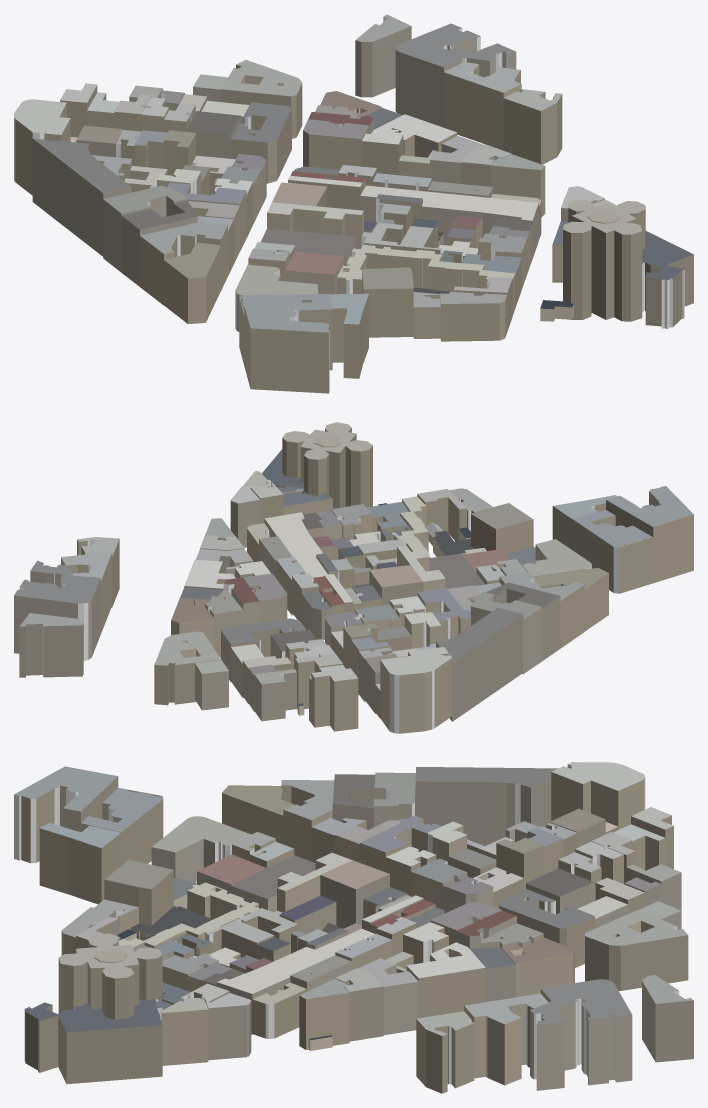
The picture shows the model from 3 angles, top to bottom: view 1: azimuth 30°, elevation 25°; view 2: azimuth 150°, elevation 25°; view 3: azimuth 270°, elevation 25°; orthographic projection. The views are drawn at different scales.
Visible parts, largest first — view 1: tuile; view 2: tuile; view 3: tuile.
Part boxes in pixels (bbox=[...]): tuile: bbox=[14, 14, 693, 393]; tuile: bbox=[14, 422, 693, 733]; tuile: bbox=[14, 762, 693, 1093].
Bounding box in the file's own units: 250 × 48.17 × 284.
